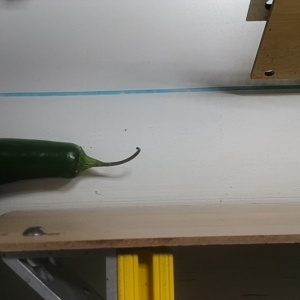Cut Point: (60, 141, 98, 179)
